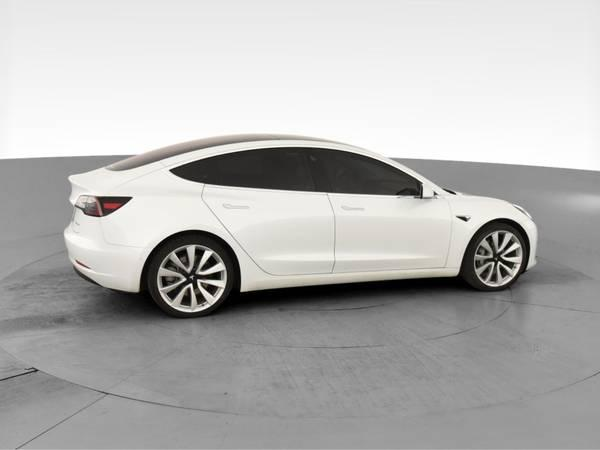Front_Bumper: (527, 238, 538, 270)
Front_Fender: (443, 191, 537, 275)
Front_Right_Door: (328, 196, 453, 284)
Front_Right_Window: (308, 147, 445, 198)
Rear_Bumper: (63, 214, 152, 292)
Rear_Fender: (104, 155, 212, 245)
Rear_Right_Door: (201, 183, 335, 290)
Rear_Right_Window: (199, 145, 321, 190)
Rear_Windshield: (107, 145, 183, 171)
Right_Taillight: (75, 192, 133, 218)
Roof: (124, 134, 369, 179)
Tailgate: (66, 164, 127, 228)
Wheel: (150, 234, 234, 316), (467, 225, 527, 290)
